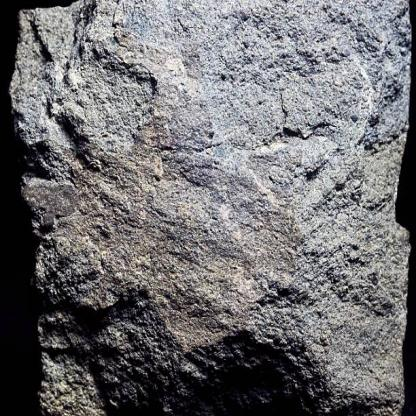Sedimentary_Sandstone: (10, 9, 416, 415)
